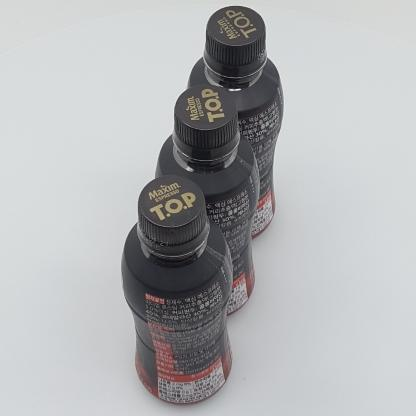--TOP--------240ML: (121, 174, 233, 405), (152, 84, 260, 317), (184, 6, 284, 241)
